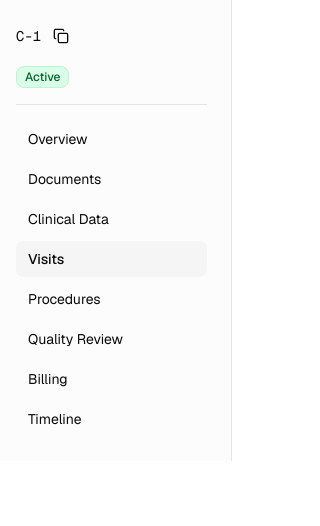
shows a useful clipboard error without announcing success
Click the button named "Copy case number": (61, 36) [49,24,73,48]
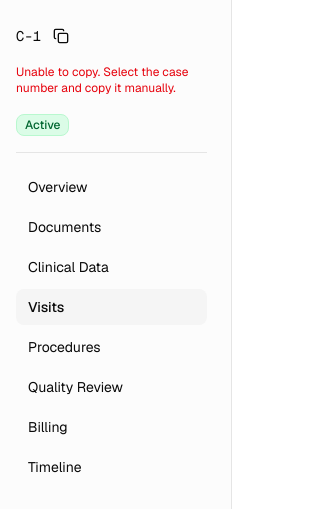
Result: the text "Unable to copy. Select the case number and copy it manually." is shown at [16,64,207,96]
